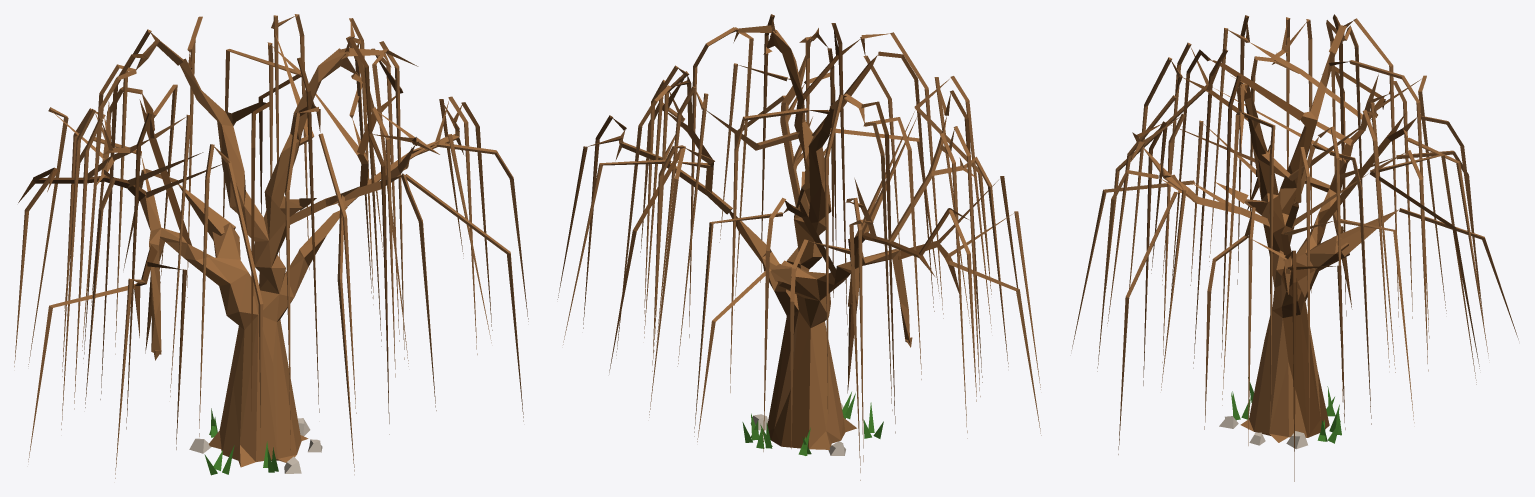
Rendered from willow_bare.glb.
3 renders of one model, left to right at view 1: azimuth 30°, elevation 25°; view 2: azimuth 150°, elevation 25°; view 3: azimuth 270°, elevation 25°, orthographic. The views are drawn at different scales.
Visible parts, largest first — view 1: willow_bare; view 2: willow_bare; view 3: willow_bare.
Part boxes in pixels (x1=…): willow_bare: x1=14, y1=14, x2=528, y2=478; willow_bare: x1=557, y1=14, x2=1041, y2=480; willow_bare: x1=1071, y1=14, x2=1518, y2=481.
Size of the model in its own units: 8.25 by 6.84 by 7.36.
